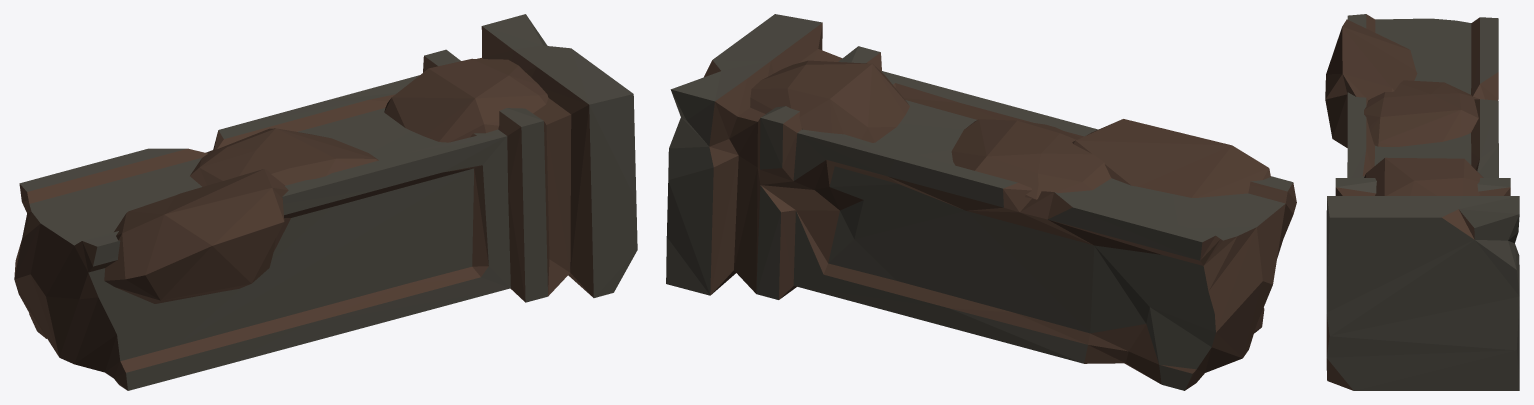
3 views of the same model, side by side, from view 1: azimuth 30°, elevation 25°; view 2: azimuth 150°, elevation 25°; view 3: azimuth 270°, elevation 25° (orthographic). The views are drawn at different scales.
Parts seen in each view (by area): view 1: SM_Prop_Pillar_Broken_Moss_01; view 2: SM_Prop_Pillar_Broken_Moss_01; view 3: SM_Prop_Pillar_Broken_Moss_01.
Part boxes in pixels (x1,y1,x2,y2): SM_Prop_Pillar_Broken_Moss_01: (14,14,637,390); SM_Prop_Pillar_Broken_Moss_01: (666,14,1296,390); SM_Prop_Pillar_Broken_Moss_01: (1325,14,1519,390).
Bounding box in the file's own units: 1.5 × 0.5161 × 0.5142.
1 material, 1 textured.
